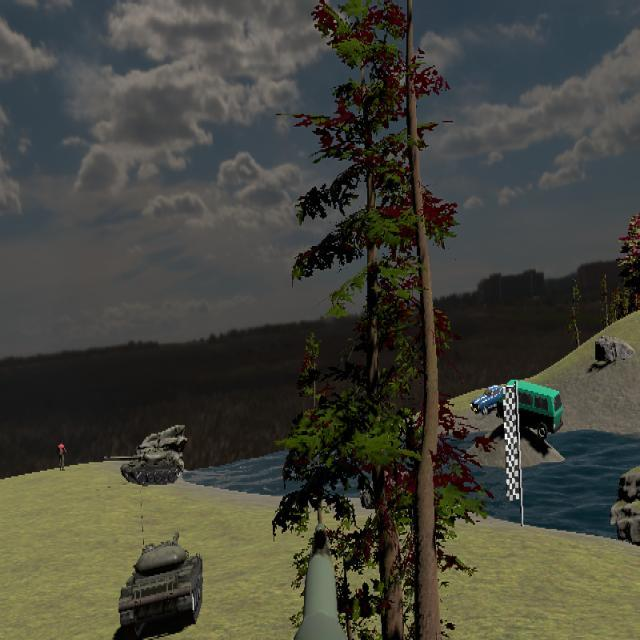Tank: (118, 532, 203, 639), (95, 449, 183, 487)
car: (503, 380, 563, 439)
